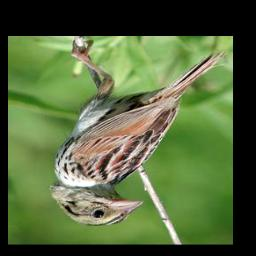Sparrow: (48, 39, 227, 227)
